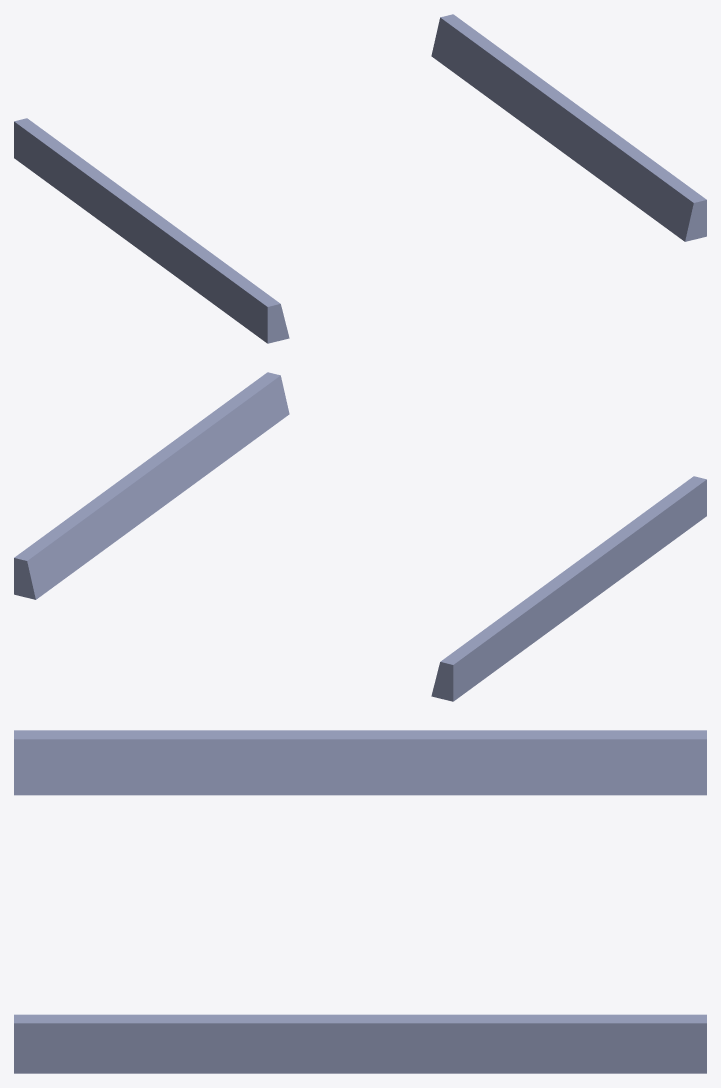
File: road-straight-barrier.glb
3 views of the same model, one above another, from view 1: azimuth 30°, elevation 25°; view 2: azimuth 150°, elevation 25°; view 3: azimuth 270°, elevation 25° (orthographic). The views are drawn at different scales.
Visible parts, largest first — view 1: road-straight-barrier; view 2: road-straight-barrier; view 3: road-straight-barrier.
Part boxes in pixels (left/top/right/bottom): road-straight-barrier: left=14, top=14, right=706, bottom=343; road-straight-barrier: left=14, top=372, right=706, bottom=701; road-straight-barrier: left=14, top=730, right=706, bottom=1073.
Size of the model in its own units: 1 by 0.08 by 1.
Materials: 1 (1 with a texture image).
